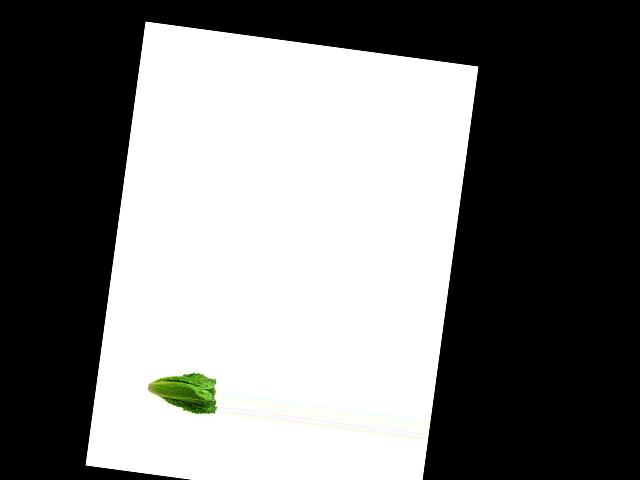lettuce: (143, 364, 221, 419)
